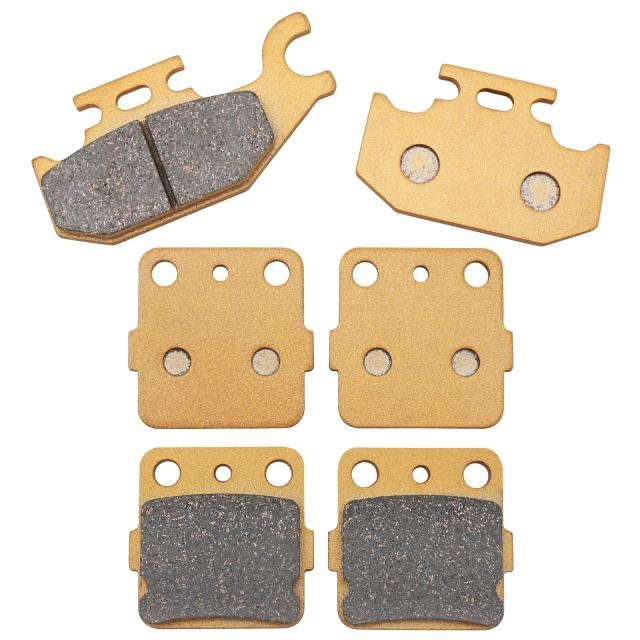brake_pad: (0, 7, 340, 246), (358, 54, 614, 239), (121, 246, 321, 432), (327, 442, 519, 633), (126, 442, 318, 632), (326, 246, 518, 432)
